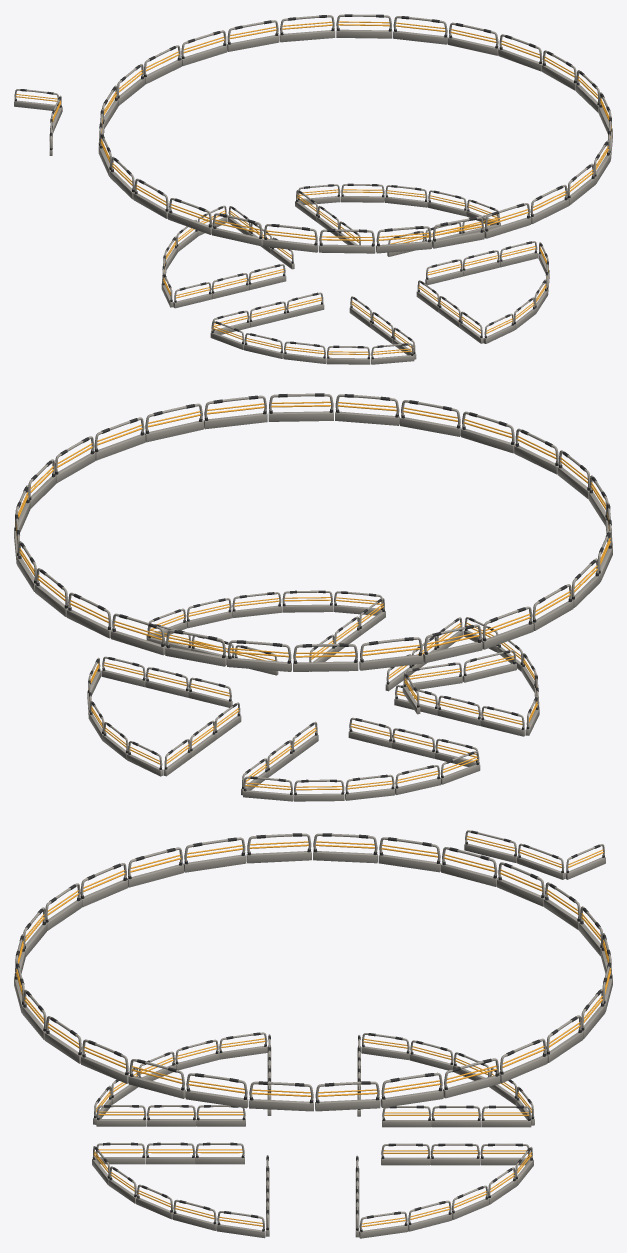
File: Room_PowerChamber_Barriers.fbx
3 views of the same model, one above another, from view 1: azimuth 30°, elevation 25°; view 2: azimuth 150°, elevation 25°; view 3: azimuth 270°, elevation 25° (orthographic). The views are drawn at different scales.
Parts seen in each view (by area): view 1: barriers; view 2: barriers; view 3: barriers.
Boxes of the visible parts, x1,y1,x2,y2 form: barriers: [14, 14, 612, 364]; barriers: [14, 393, 612, 801]; barriers: [14, 830, 612, 1238].
Size of the model in its own units: 1939 by 643 by 1867.
